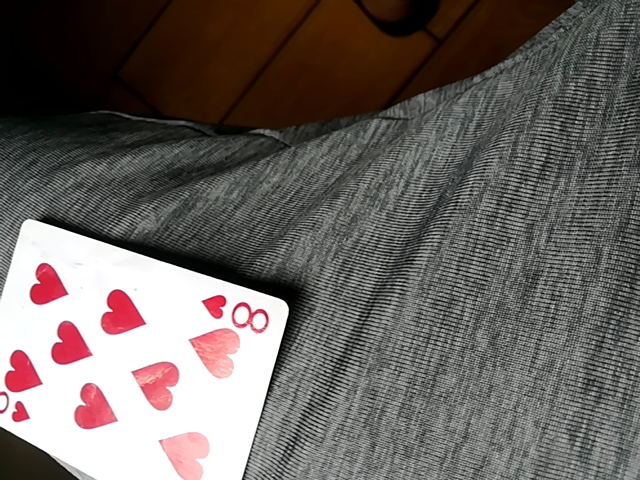hx 8: (0, 216, 293, 479)
